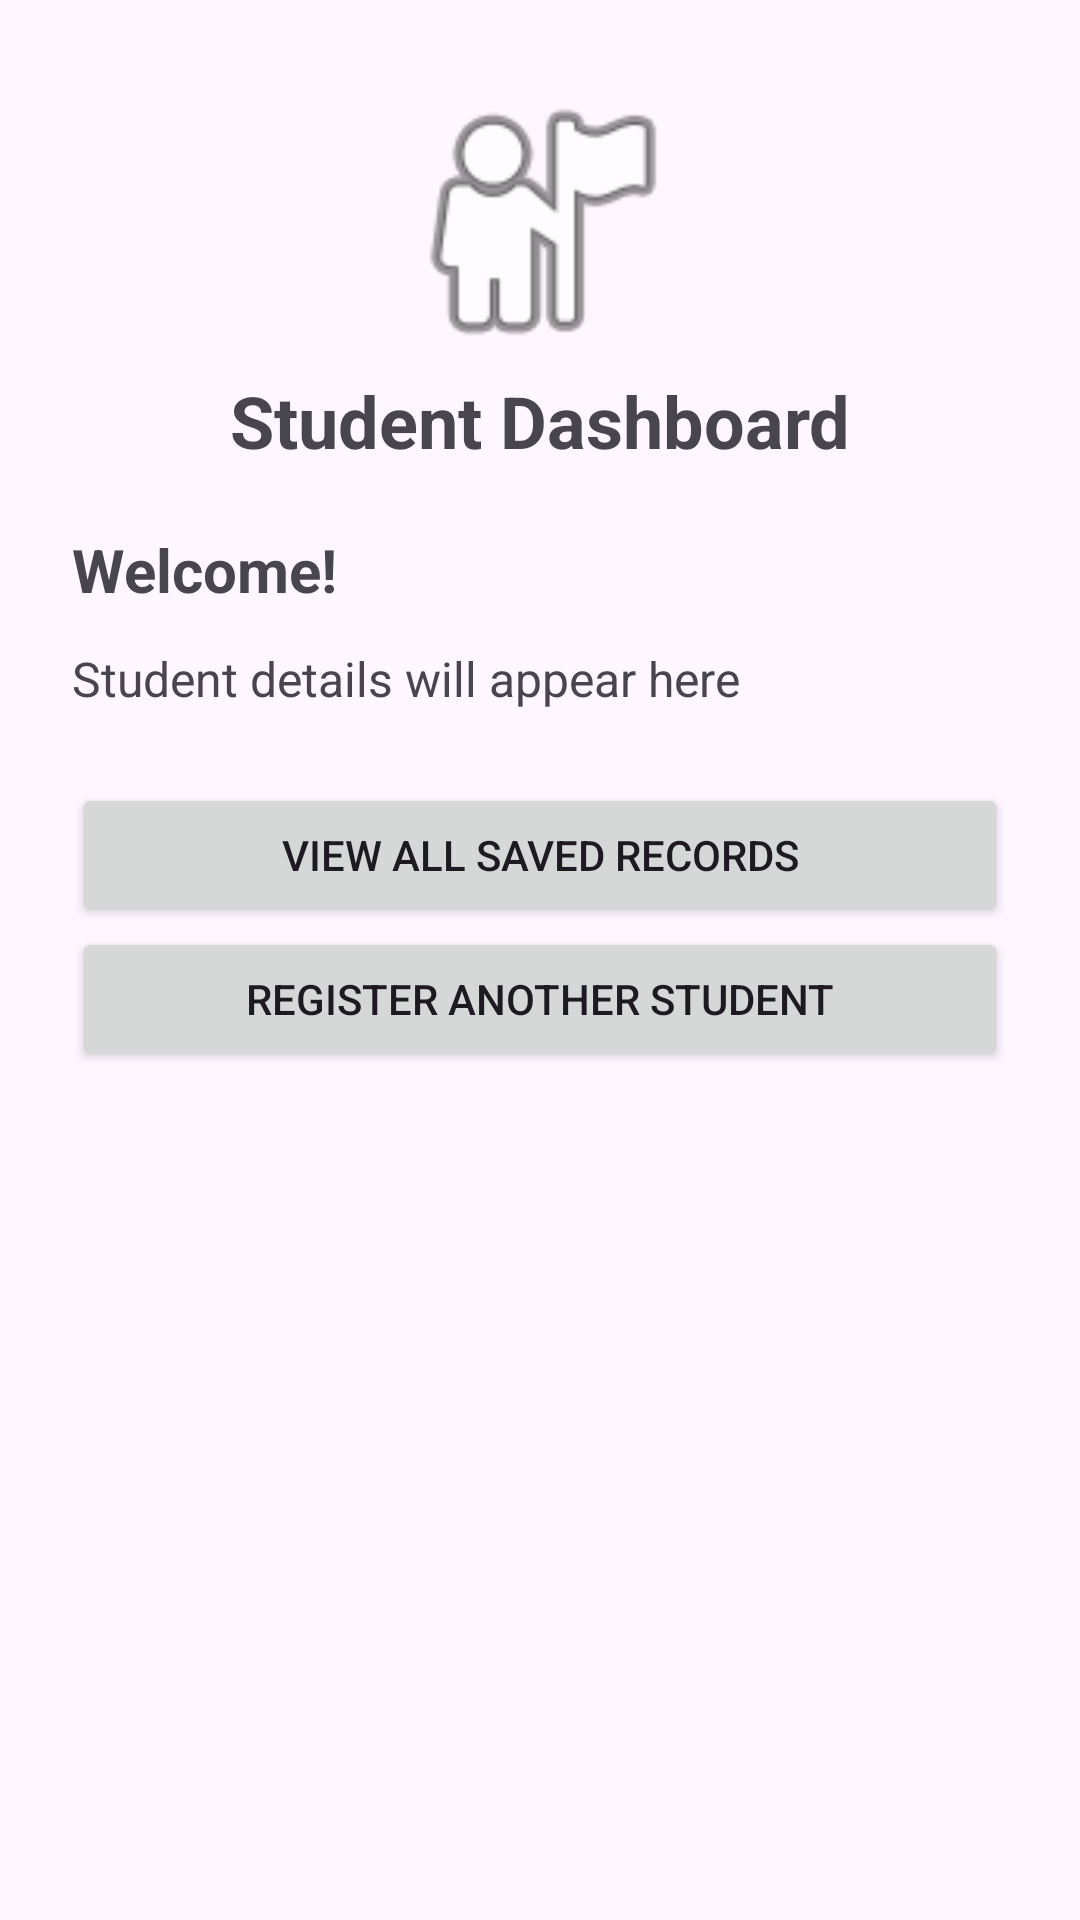

Icons on this 1080w x 1920h Android screen, each with its box as [x1, y1, x2, y2]:
Student profile: [430, 110, 656, 334]
